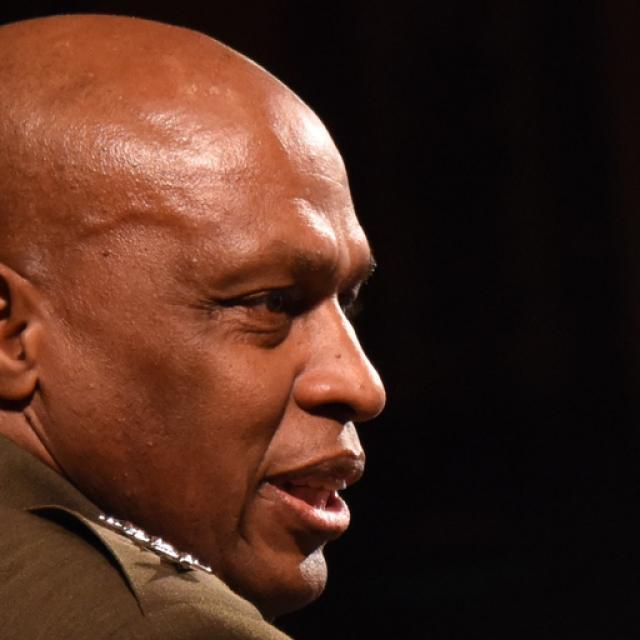anger: (72, 80, 388, 612)
